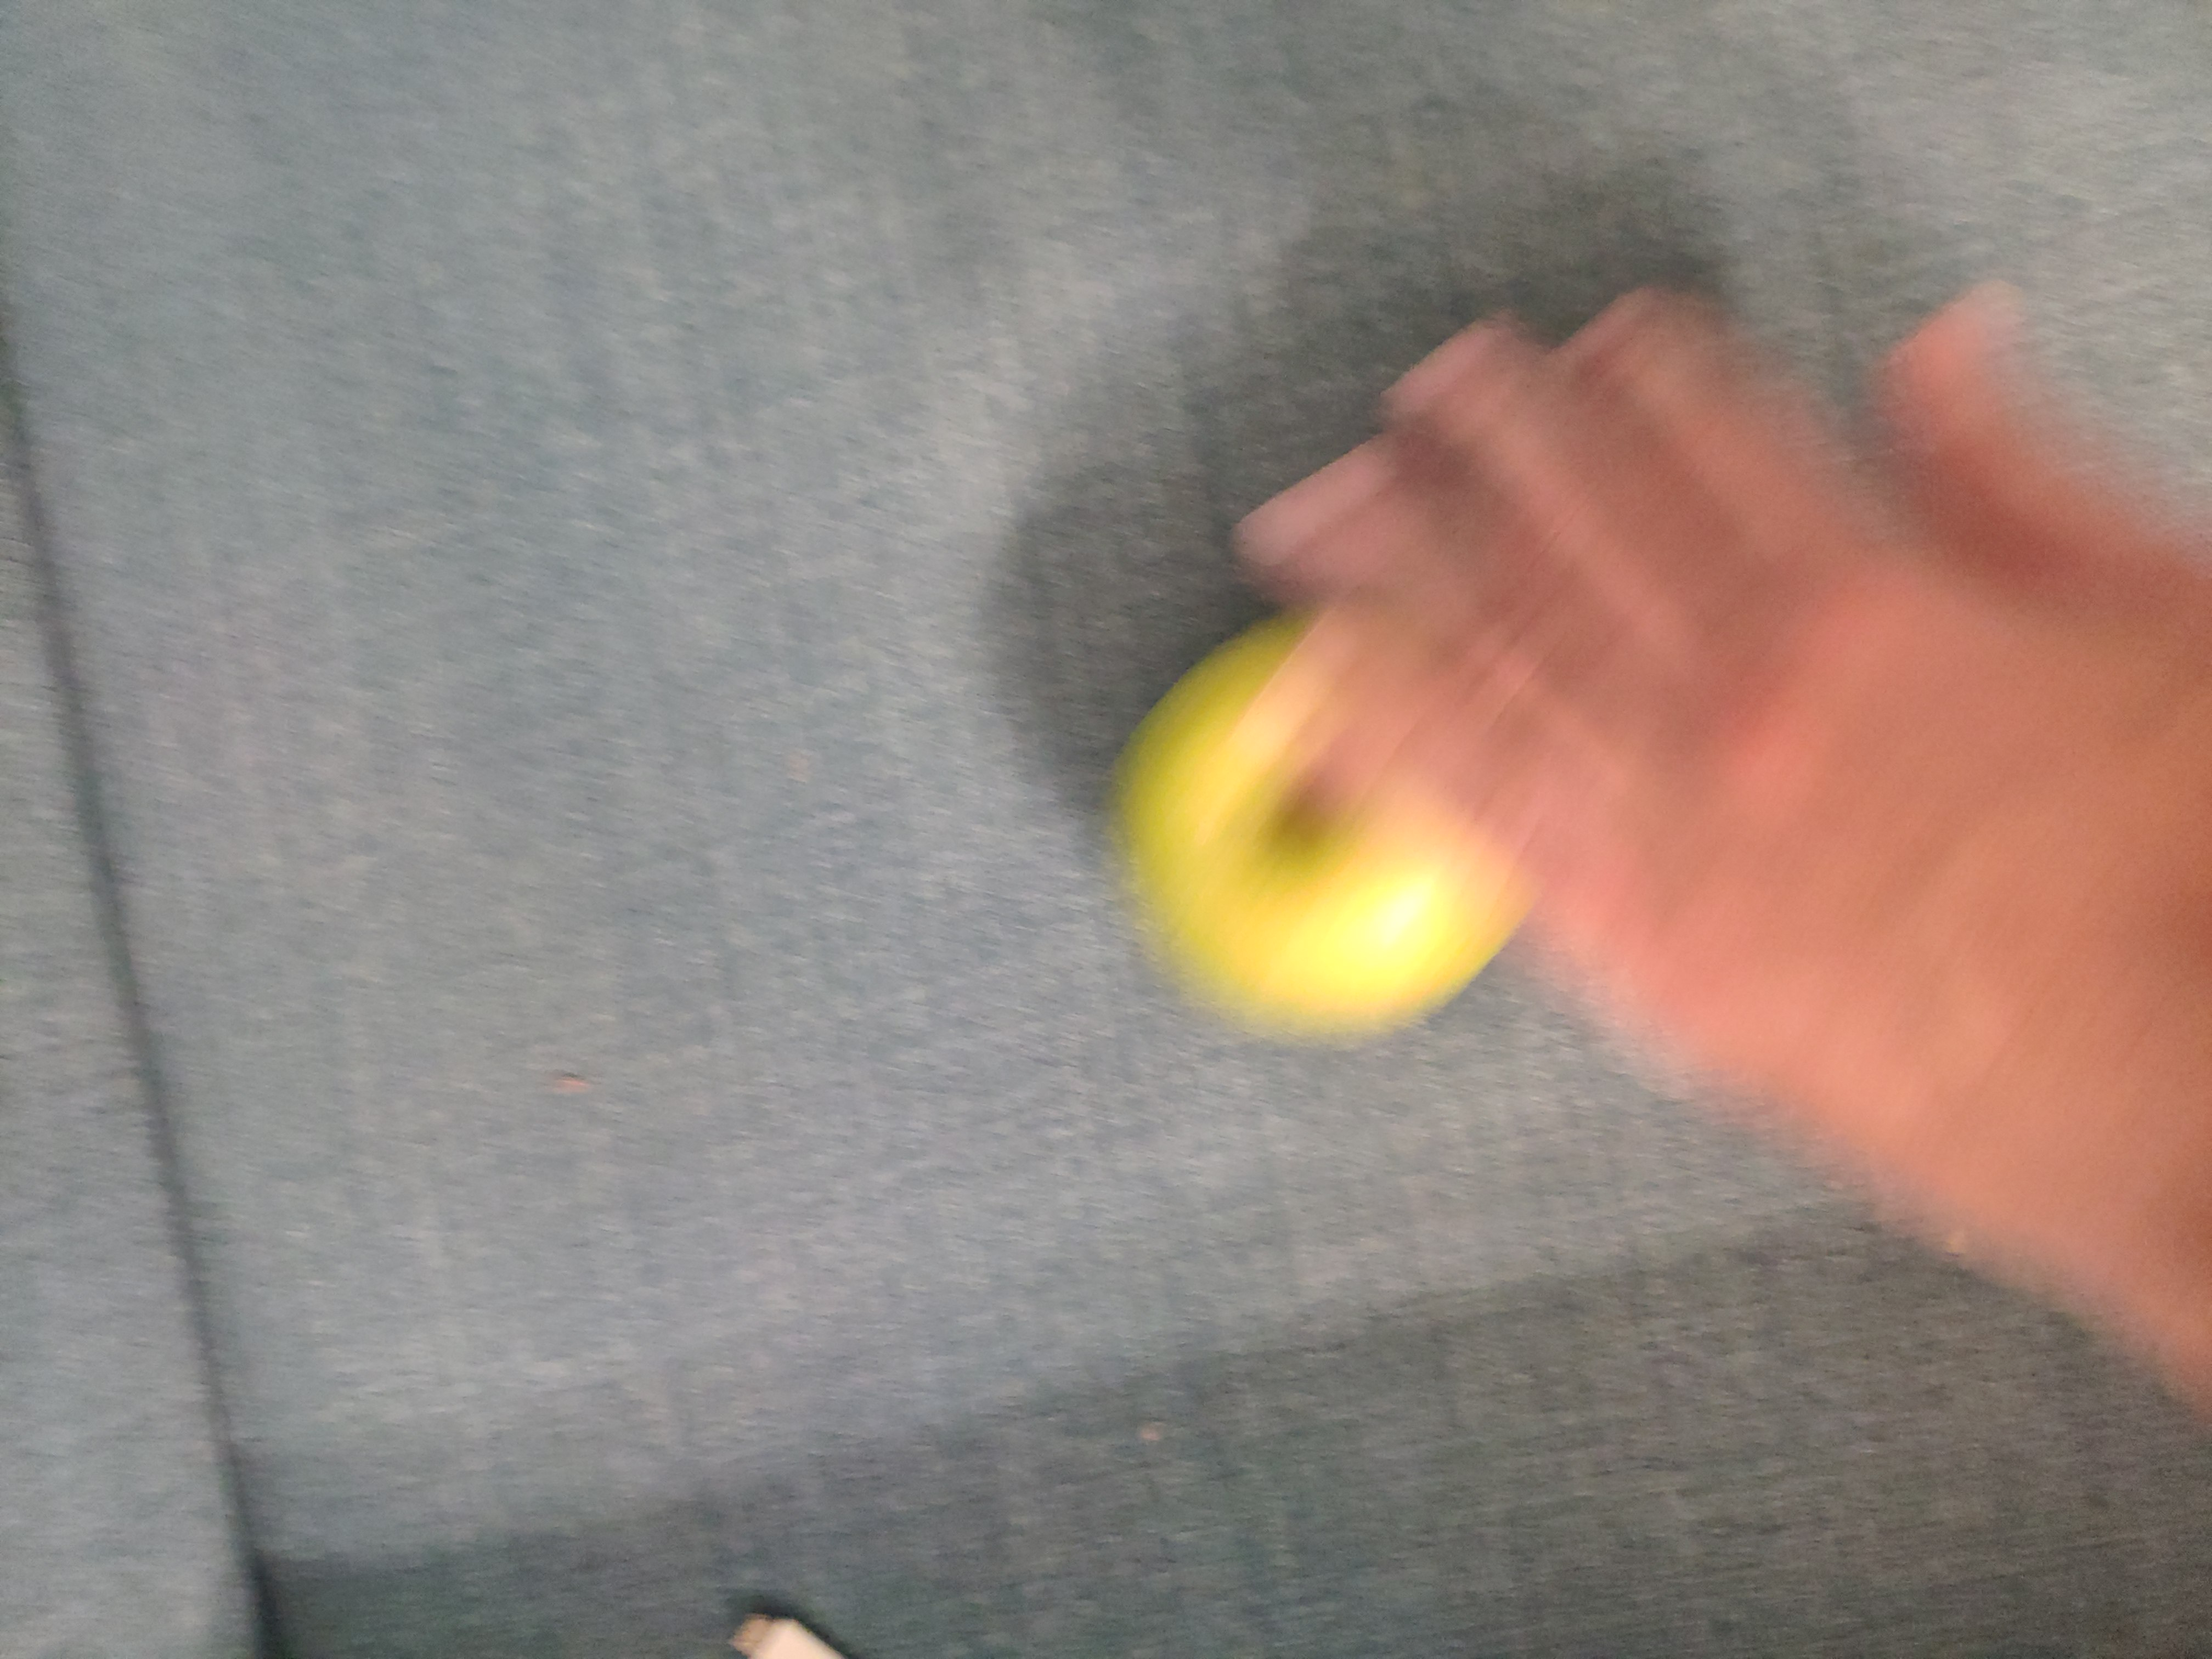apple: (1057, 579, 1569, 1016)
